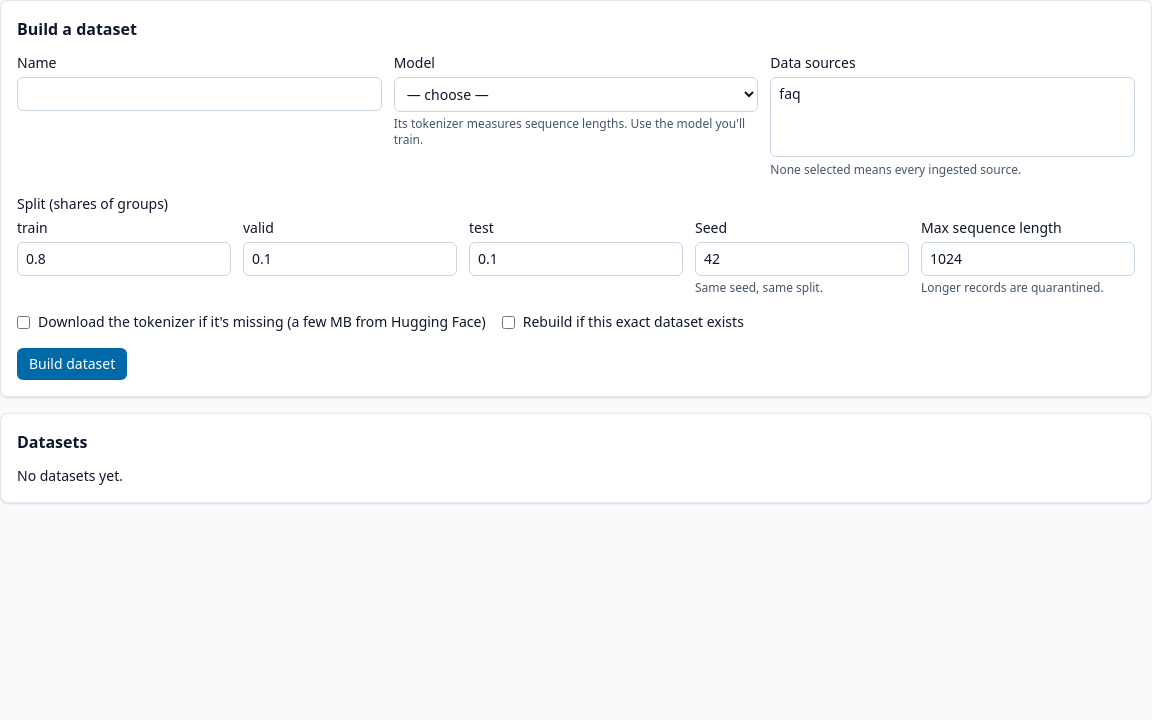
it: Dataset build form › shows validation errors and sends nothing until they're fixed
This screenshot has width=1152, height=720.
What coordinates should you click on to do the following:
click the button "Build dataset"
I would click on:
 (72, 364)
Its box is [17,348,127,380].
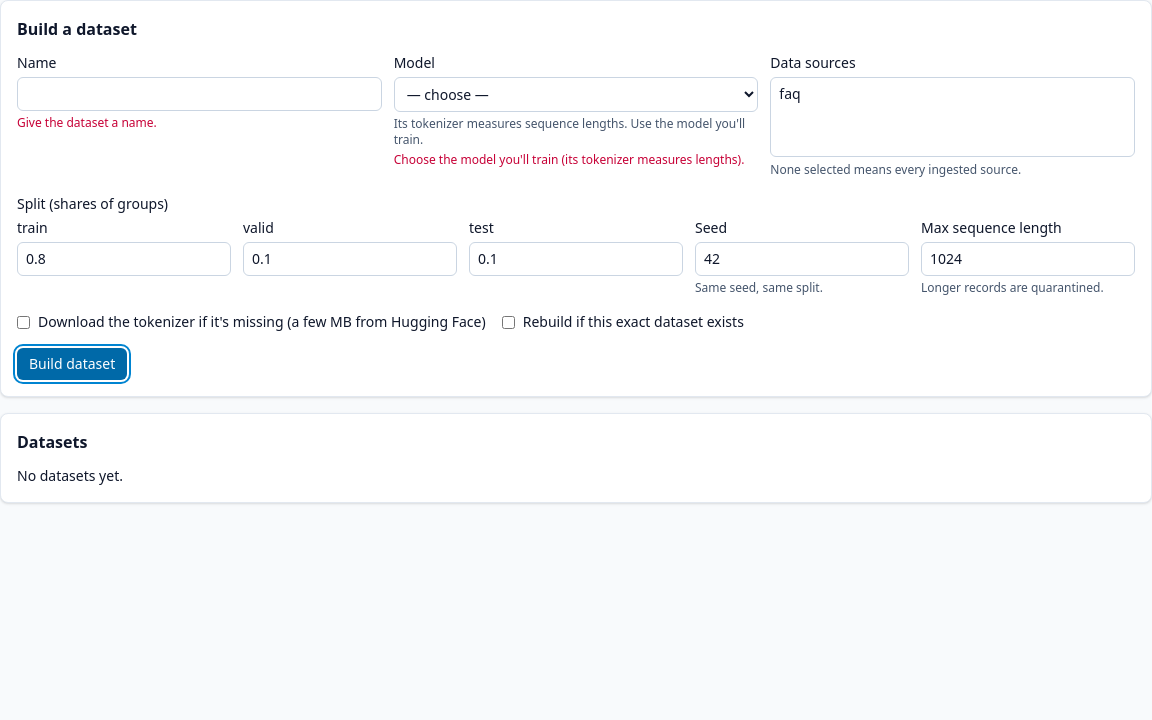
Check: the text "Give the dataset a name." is shown, box [17,114,157,131]
Check: the text "Choose the model you'll train (its tokenizer measures lengths)." is shown, box [394,152,758,168]
